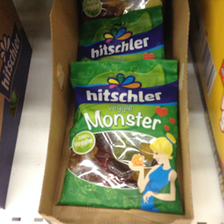candy: (58, 59, 187, 217)
